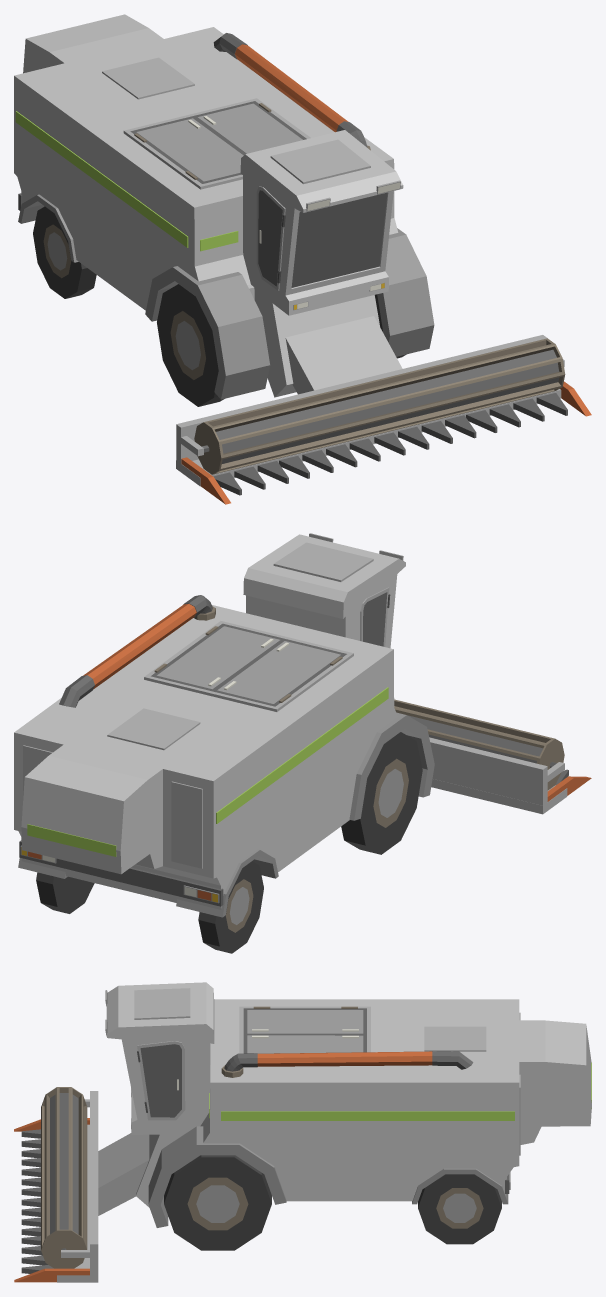
The model's file is kar9.fbx.
The picture shows the model from 3 angles, top to bottom: view 1: azimuth 30°, elevation 25°; view 2: azimuth 150°, elevation 25°; view 3: azimuth 270°, elevation 25°; orthographic projection. The views are drawn at different scales.
Visible parts, largest first — view 1: Cube_5, Cylinder_2, Cube_6, Cylinder_2_2, Cylinder_3, Cylinder_6; view 2: Cube_5, Cube_6, Cylinder_2_2, Cylinder_2, Cylinder_3, Cylinder_6, Cylinder_1; view 3: Cube_5, Cube_6, Cylinder, Cylinder_2, Cylinder_1, Cylinder_6.
Part boxes in pixels (x1,y1,x2,y2): Cube_5: (14,14,434,399); Cylinder_2: (194,338,565,474); Cube_6: (176,316,591,504); Cylinder_2_2: (157,284,223,406); Cylinder_3: (33,206,96,298); Cylinder_6: (213,33,367,147); Cube_5: (14,533,434,917); Cube_6: (429,737,591,814); Cylinder_2_2: (341,732,422,854); Cylinder_2: (394,699,564,790); Cylinder_3: (198,861,263,953); Cylinder_6: (59,595,212,707); Cylinder_1: (36,872,94,913); Cube_5: (105,982,591,1227); Cube_6: (14,1091,149,1282); Cylinder: (164,1155,271,1250); Cylinder_2: (41,1087,87,1268); Cylinder_1: (418,1174,501,1244); Cylinder_6: (224,1051,473,1071).
Size of the model in its own units: 551 by 344 by 878.
